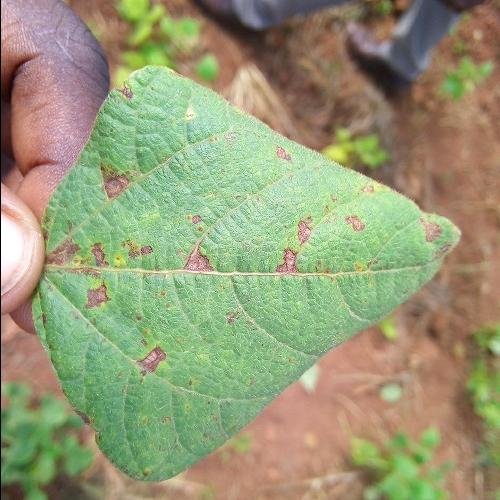hawar: (41, 120, 146, 318), (174, 192, 228, 288), (264, 220, 320, 284), (128, 330, 170, 385), (412, 217, 447, 264), (344, 205, 372, 248), (110, 76, 138, 106), (218, 300, 244, 331), (272, 148, 292, 166)
